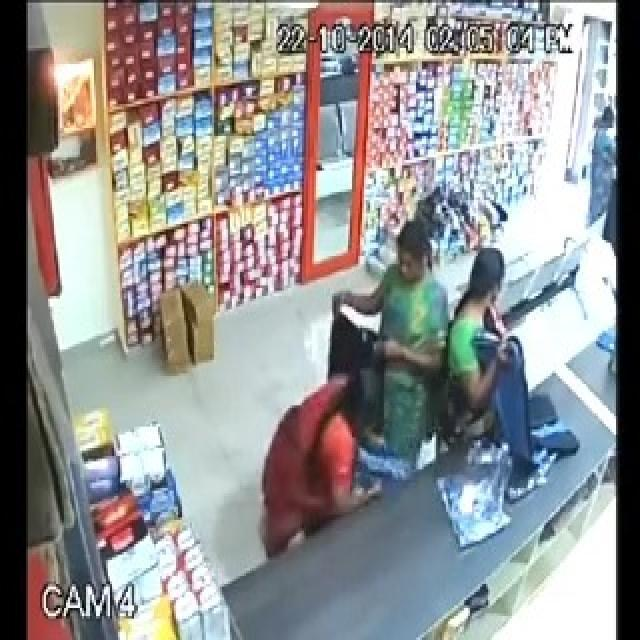Normal: (429, 231, 588, 566), (254, 331, 422, 558), (314, 204, 449, 432)
